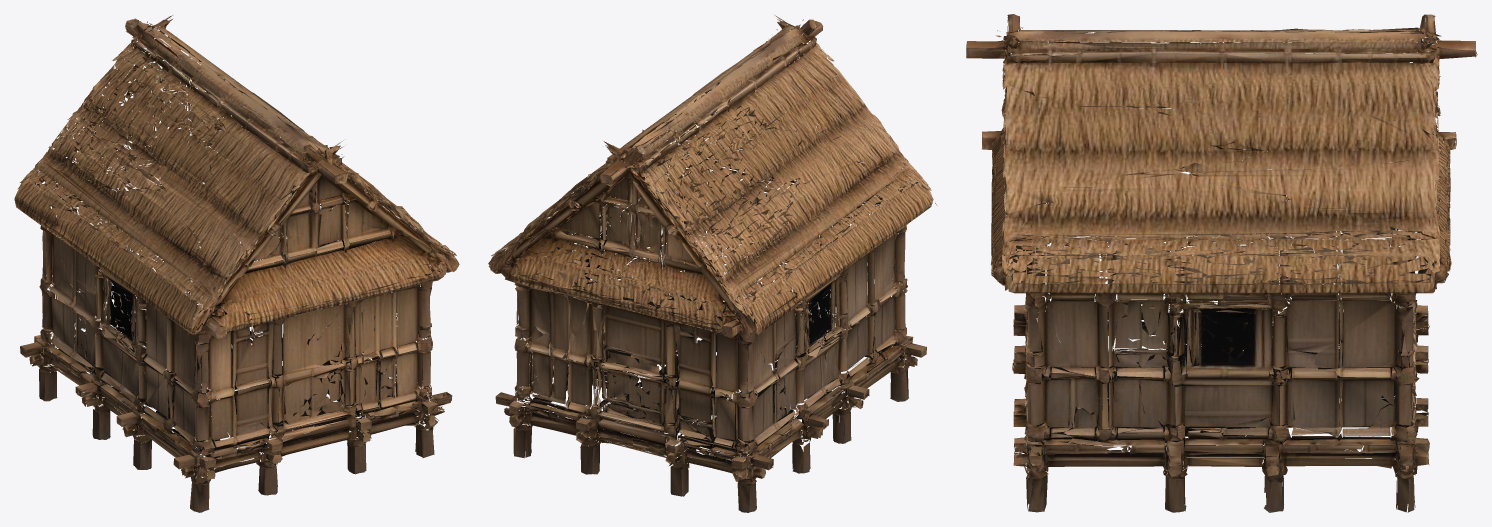
File: hut_hy3d.glb
3 renders of one model, left to right at view 1: azimuth 30°, elevation 25°; view 2: azimuth 150°, elevation 25°; view 3: azimuth 270°, elevation 25°, orthographic. The views are drawn at different scales.
Visible parts, largest first — view 1: node_0; view 2: node_0; view 3: node_0.
Part boxes in pixels (x1=…): node_0: x1=14, y1=15, x2=459, y2=512; node_0: x1=488, y1=15, x2=936, y2=512; node_0: x1=966, y1=14, x2=1477, y2=512.
Bounding box in the file's own units: 0.6722 × 0.8112 × 0.8938.
1 material, 1 textured.
